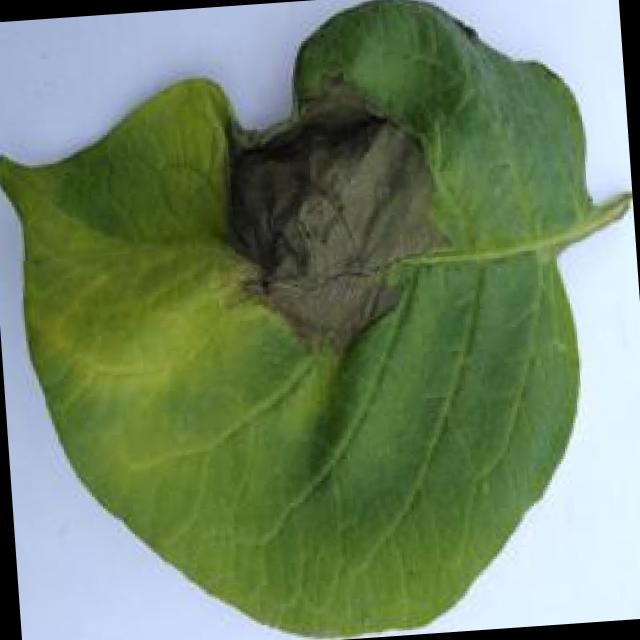Potato_Late_Blight: (0, 39, 613, 640)
